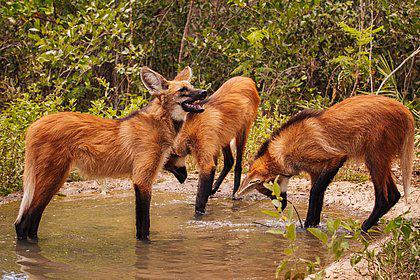LoboGuara: (15, 66, 210, 244), (236, 94, 419, 232), (161, 74, 262, 217)
